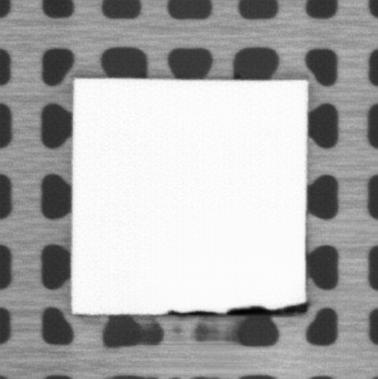DIE_BROKEN: (224, 300, 308, 317), (164, 308, 219, 317)
